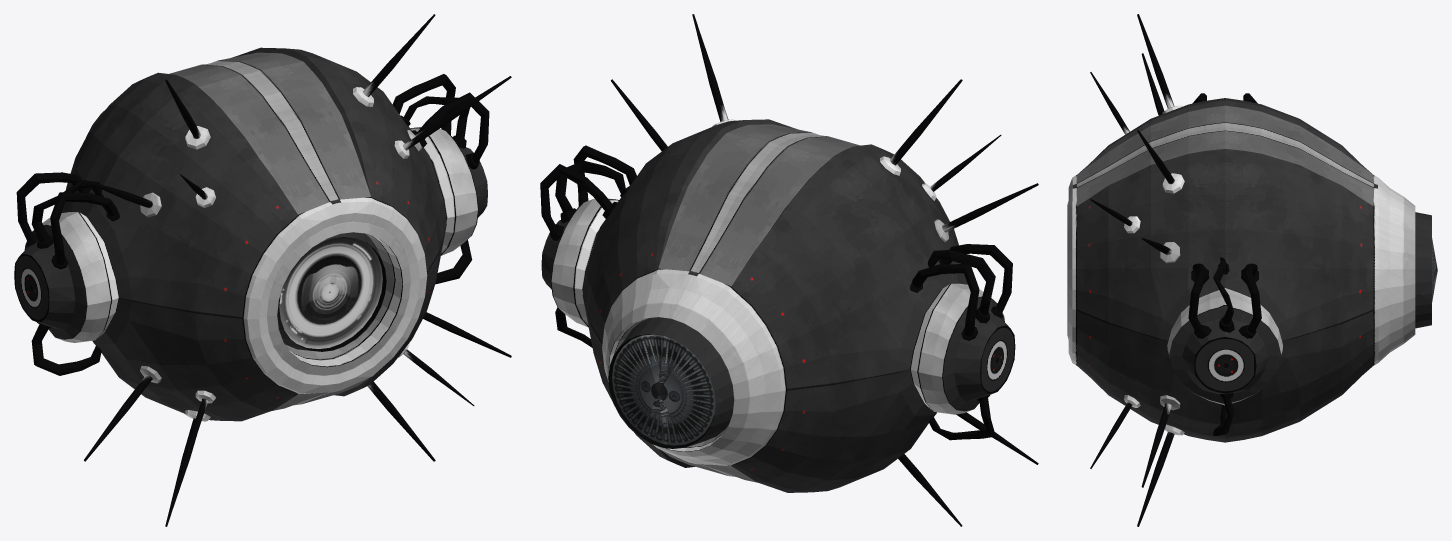
Rendered from Drone.fbx.
The picture shows the model from 3 angles, left to right: view 1: azimuth 30°, elevation 25°; view 2: azimuth 150°, elevation 25°; view 3: azimuth 270°, elevation 25°; orthographic projection. The views are drawn at different scales.
Visible parts, largest first — view 1: Sphere, Sphere_001, Circle_001, Circle; view 2: Sphere, Circle_001, Circle; view 3: Sphere, Circle, Circle_001.
Part boxes in pixels (left/top/right/bottom): Sphere: left=14, top=47, right=487, bottom=421; Sphere_001: left=279, top=237, right=382, bottom=348; Circle_001: left=16, top=74, right=489, bottom=375; Circle: left=83, top=14, right=511, bottom=526; Sphere: left=541, top=119, right=1015, bottom=492; Circle_001: left=540, top=145, right=1012, bottom=440; Circle: left=611, top=14, right=1038, bottom=526; Sphere: left=1067, top=98, right=1437, bottom=442; Circle: left=1090, top=14, right=1184, bottom=526; Circle_001: left=1188, top=93, right=1261, bottom=435.
Size of the model in its own units: 2.58 by 2.51 by 2.12.
Materials: 3 (3 with a texture image).
